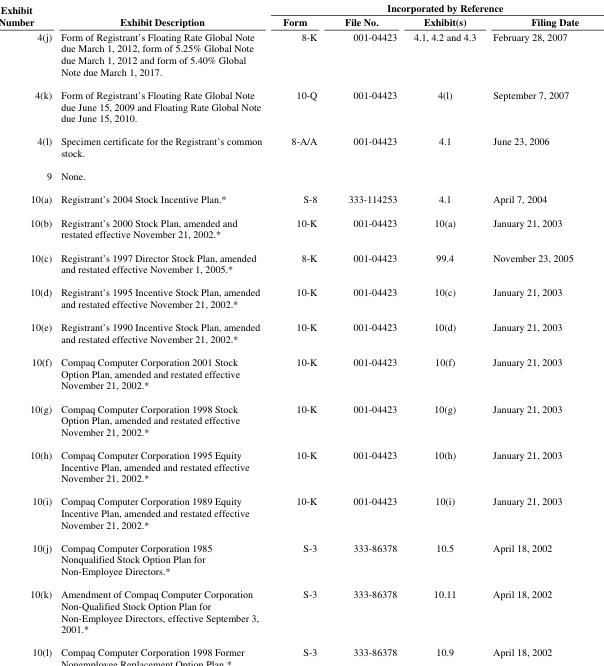table: (29, 29, 572, 635)
table column: (55, 29, 275, 635), (483, 29, 572, 635), (404, 29, 483, 635), (332, 29, 404, 635), (275, 29, 332, 635), (29, 29, 55, 635)
table column header: (29, 29, 572, 82)
table row: (29, 581, 572, 635), (29, 29, 572, 82), (29, 349, 572, 396), (29, 488, 572, 535), (29, 82, 572, 128), (29, 396, 572, 442), (29, 442, 572, 488), (29, 535, 572, 581), (29, 128, 572, 163), (29, 210, 572, 245), (29, 279, 572, 314), (29, 314, 572, 349), (29, 245, 572, 279), (29, 186, 572, 210), (29, 163, 572, 186)
